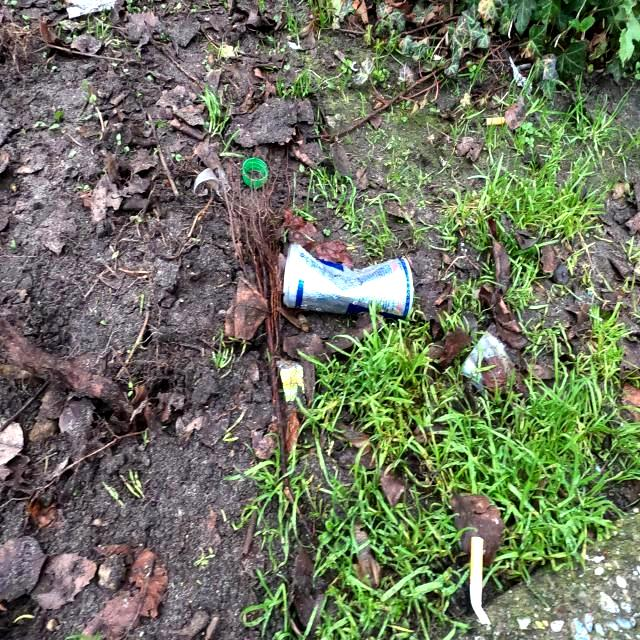Metal: (281, 242, 415, 324)
Plastic: (275, 358, 305, 404)
